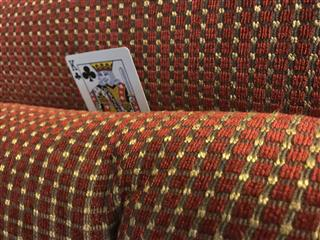KingOfClubs: (64, 45, 151, 112)
